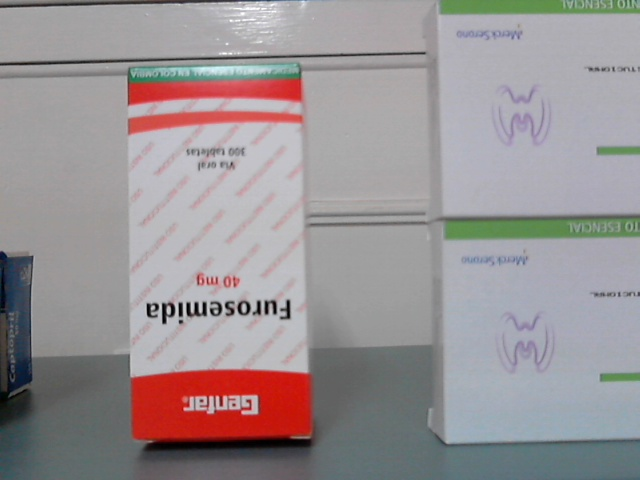Genfar: (129, 64, 311, 437)
